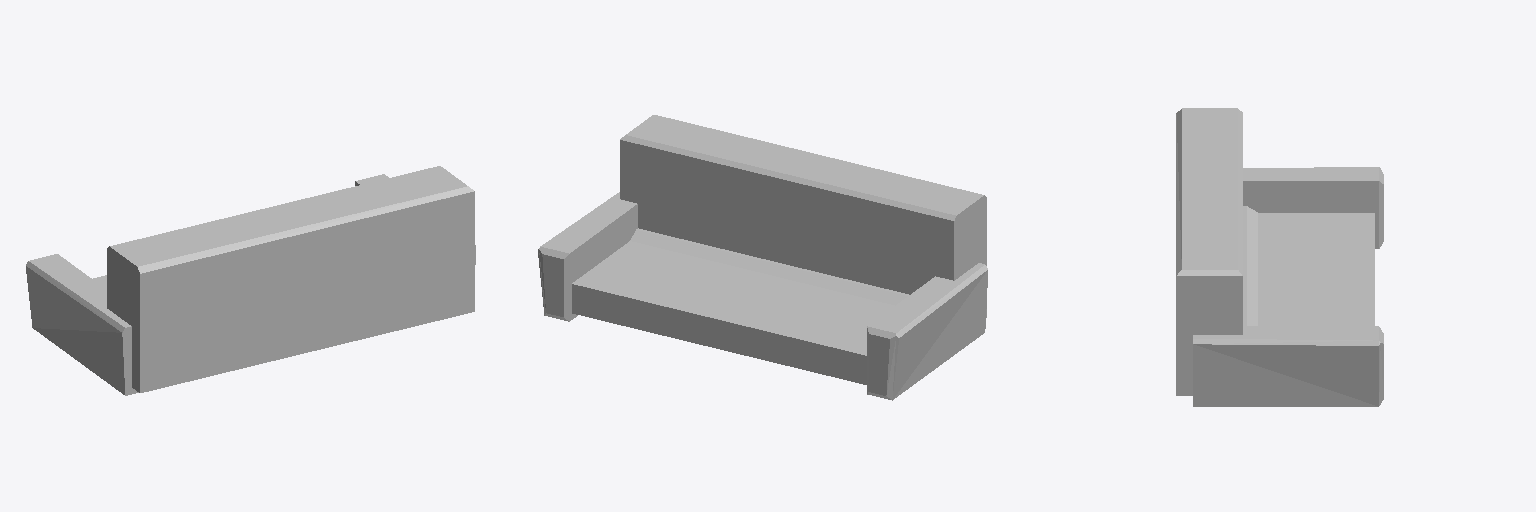
The model's file is lowpolycouch2.obj.
3 views of the same model, side by side, from view 1: azimuth 30°, elevation 25°; view 2: azimuth 150°, elevation 25°; view 3: azimuth 270°, elevation 25° (orthographic).
Parts seen in each view (by area): view 1: Cube, Cube.002; view 2: Cube, Cube.002, Cube.003, Cube.001; view 3: Cube, Cube.003, Cube.002, Cube.001.
Boxes of the visible parts, <box> form: Cube: <box>93,166,474,392</box>; Cube.002: <box>26,254,138,395</box>; Cube: <box>572,115,986,384</box>; Cube.002: <box>867,263,987,400</box>; Cube.003: <box>538,192,637,321</box>; Cube.001: <box>630,228,908,305</box>; Cube: <box>1176,108,1374,395</box>; Cube.003: <box>1193,326,1383,406</box>; Cube.002: <box>1243,167,1383,248</box>; Cube.001: <box>1243,206,1257,325</box>.
Bounding box in the file's own units: 13.36 × 4.65 × 6.63.